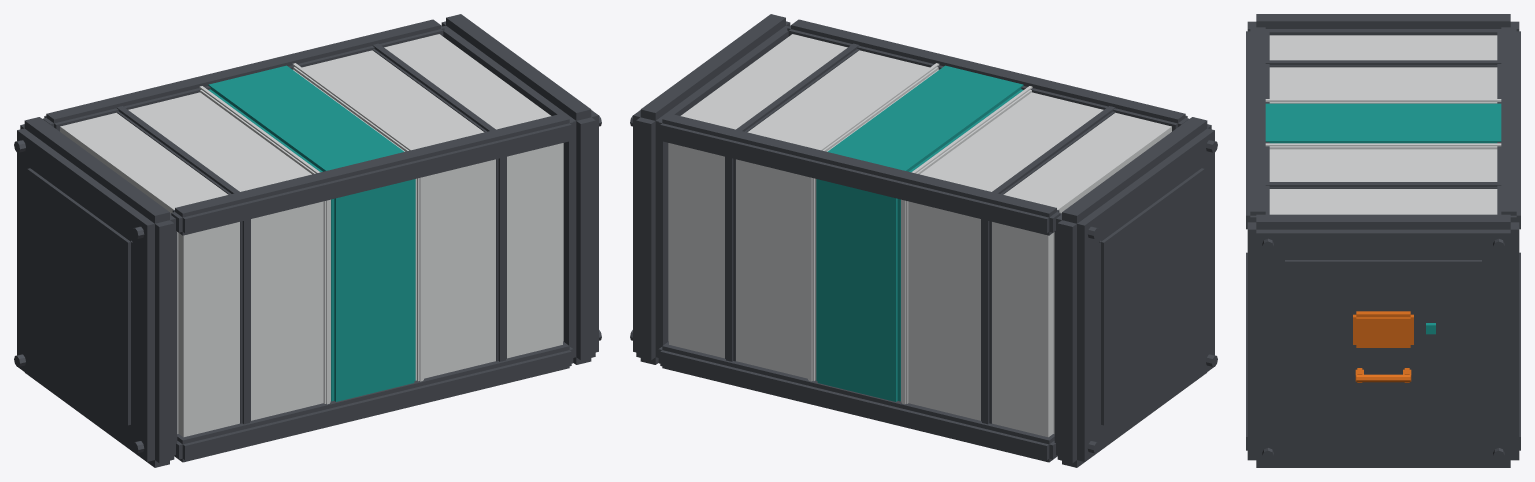
The model's file is crate.glb.
The picture shows the model from 3 angles, left to right: view 1: azimuth 30°, elevation 25°; view 2: azimuth 150°, elevation 25°; view 3: azimuth 270°, elevation 25°; orthographic projection. The views are drawn at different scales.
Parts seen in each view (by area): view 1: crate_canister_frame, crate_canister_shell, crate_guild_teal; view 2: crate_canister_frame, crate_canister_shell, crate_guild_teal; view 3: crate_canister_frame, crate_canister_shell, crate_guild_teal, crate_latch_orange.
Boxes of the visible parts, bbox=[...] form: crate_canister_frame: bbox=[14, 14, 601, 467]; crate_canister_shell: bbox=[60, 34, 563, 437]; crate_guild_teal: bbox=[208, 65, 415, 401]; crate_canister_frame: bbox=[630, 14, 1217, 467]; crate_canister_shell: bbox=[668, 34, 1171, 437]; crate_guild_teal: bbox=[816, 65, 1023, 401]; crate_canister_frame: bbox=[1246, 14, 1520, 467]; crate_canister_shell: bbox=[1265, 35, 1501, 214]; crate_guild_teal: bbox=[1265, 103, 1501, 334]; crate_latch_orange: bbox=[1353, 311, 1413, 382].
Size of the model in its own units: 3.22 by 1.6 by 1.62.
